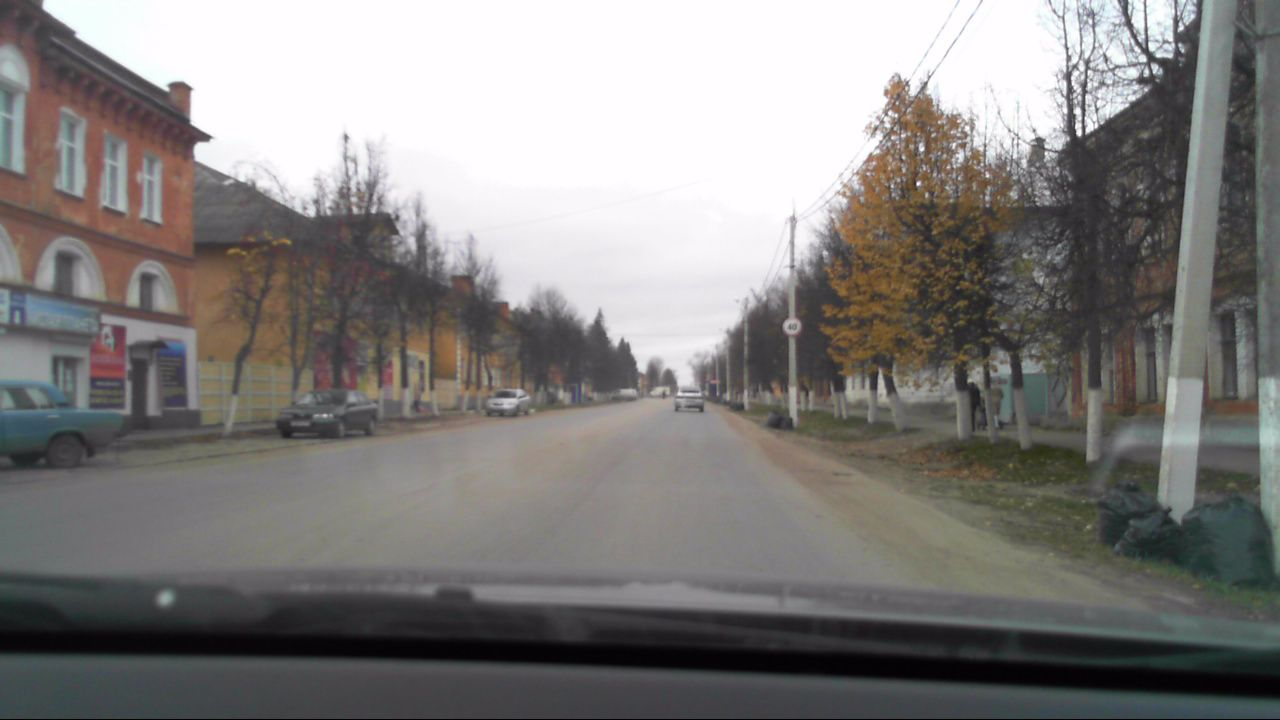speed_warning_40: (779, 314, 801, 336)
